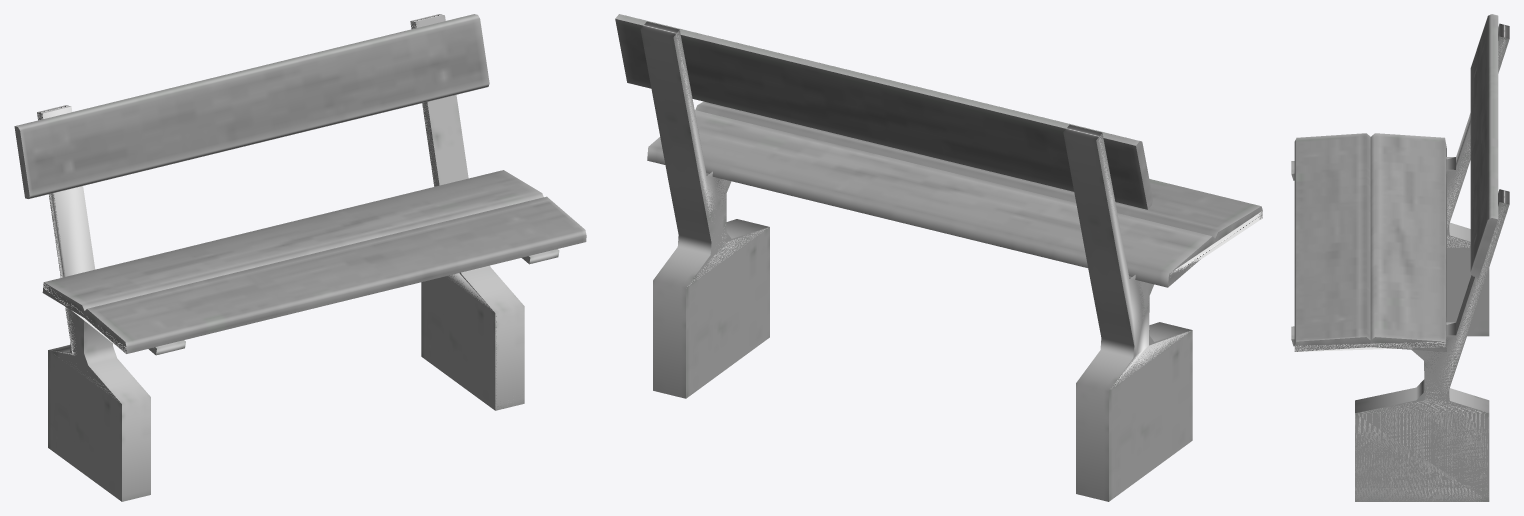
The model's file is objects_un_dlc2_bench01.gltf.
The picture shows the model from 3 angles, left to right: view 1: azimuth 30°, elevation 25°; view 2: azimuth 150°, elevation 25°; view 3: azimuth 270°, elevation 25°; orthographic projection. The views are drawn at different scales.
Parts seen in each view (by area): view 1: um_objects_un_dlc2_bench01_model_lod0Shape:objects_un_dlc2_b (×2); view 2: um_objects_un_dlc2_bench01_model_lod0Shape:objects_un_dlc2_b (×2); view 3: um_objects_un_dlc2_bench01_model_lod0Shape:objects_un_dlc2_b (×2).
Part boxes in pixels (bbox=[...]): um_objects_un_dlc2_bench01_model_lod0Shape:objects_un_dlc2_b (×2): bbox=[14, 14, 586, 501]; um_objects_un_dlc2_bench01_model_lod0Shape:objects_un_dlc2_b (×2): bbox=[615, 14, 1262, 501]; um_objects_un_dlc2_bench01_model_lod0Shape:objects_un_dlc2_b (×2): bbox=[1291, 14, 1509, 501].
Size of what is drawn, in the model's own units: 1.6 by 1.1 by 0.7239.
2 materials, 1 textured.
